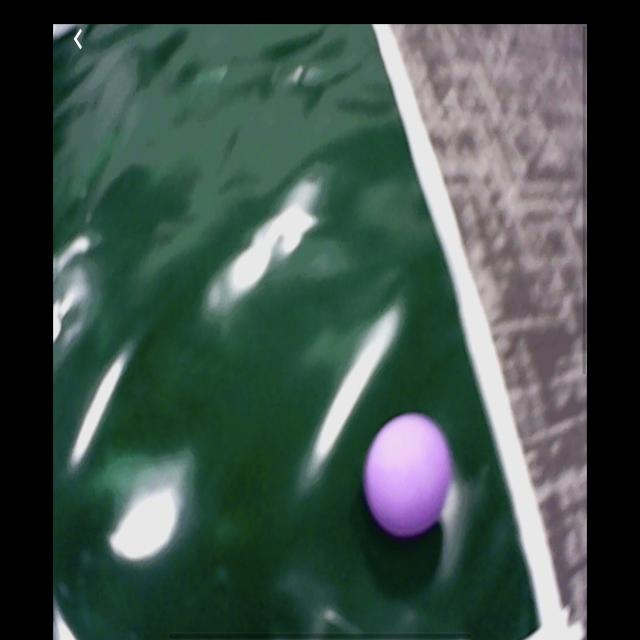ball: (362, 411, 454, 540)
